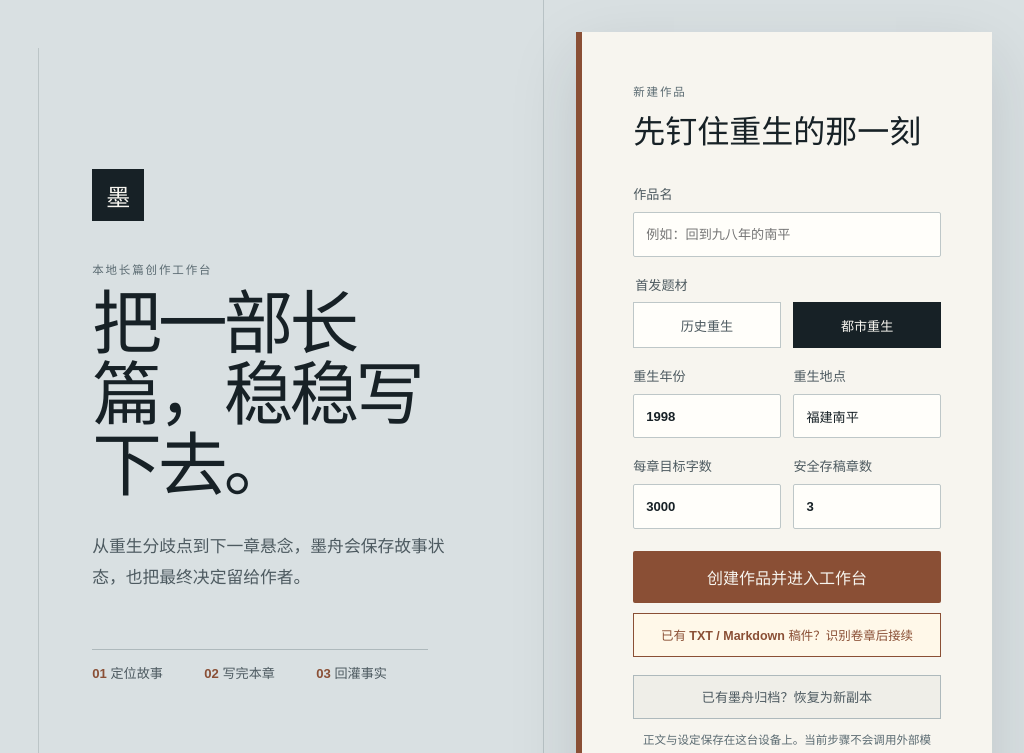
App › flushes the latest chapter text before opening the reference library
The image size is (1024, 753).
Step 1. Type "回到九八年的南平" into the field labelled "作品名" → coordinates (787, 235), box [633,212,941,257]
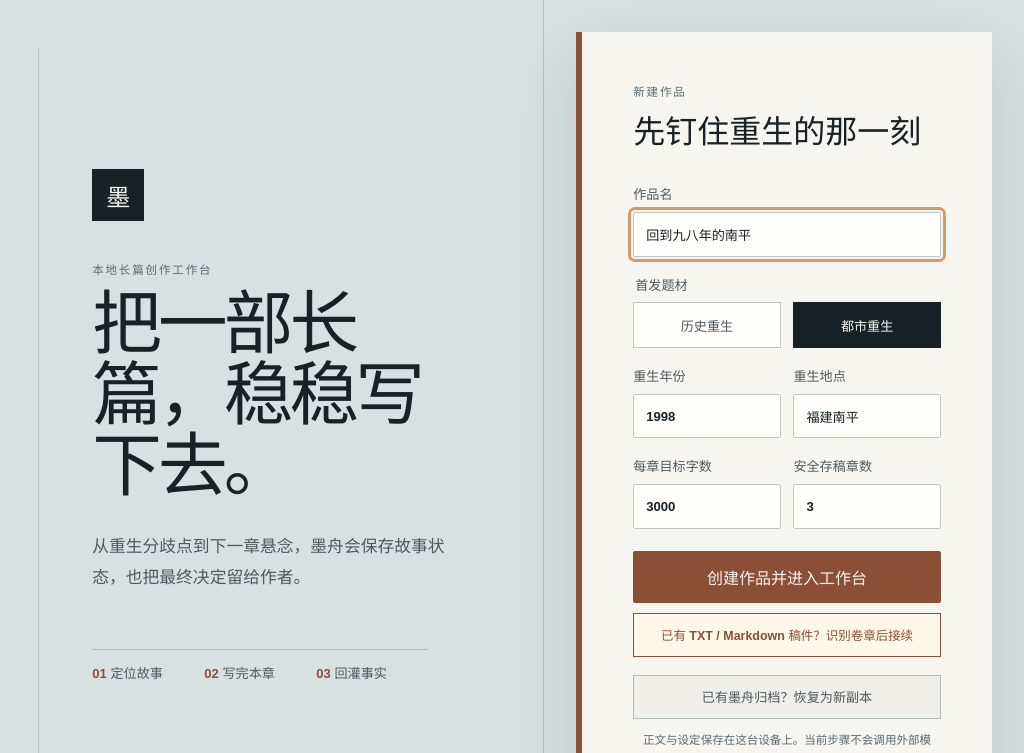
Step 2. Click the button "创建作品并进入工作台" → coordinates (787, 577), box [633,551,941,603]
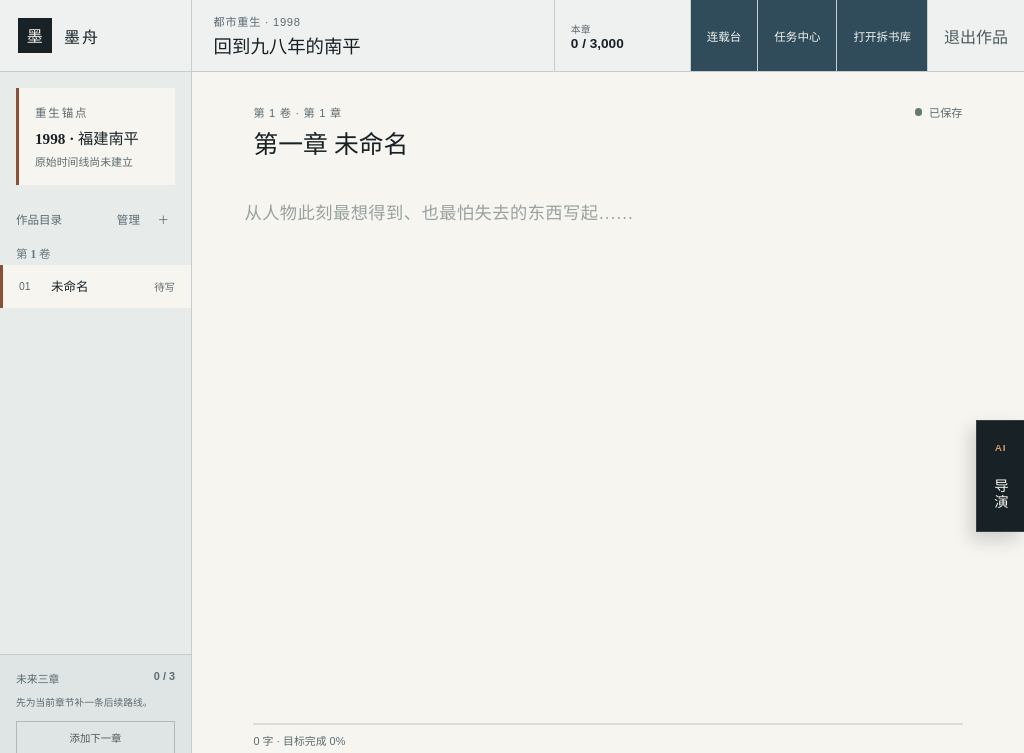
Step 3. Type "刚写下、还没有等到自动保存的一句。" into the text box named "章节正文" → coordinates (608, 451), box [224,180,992,723]
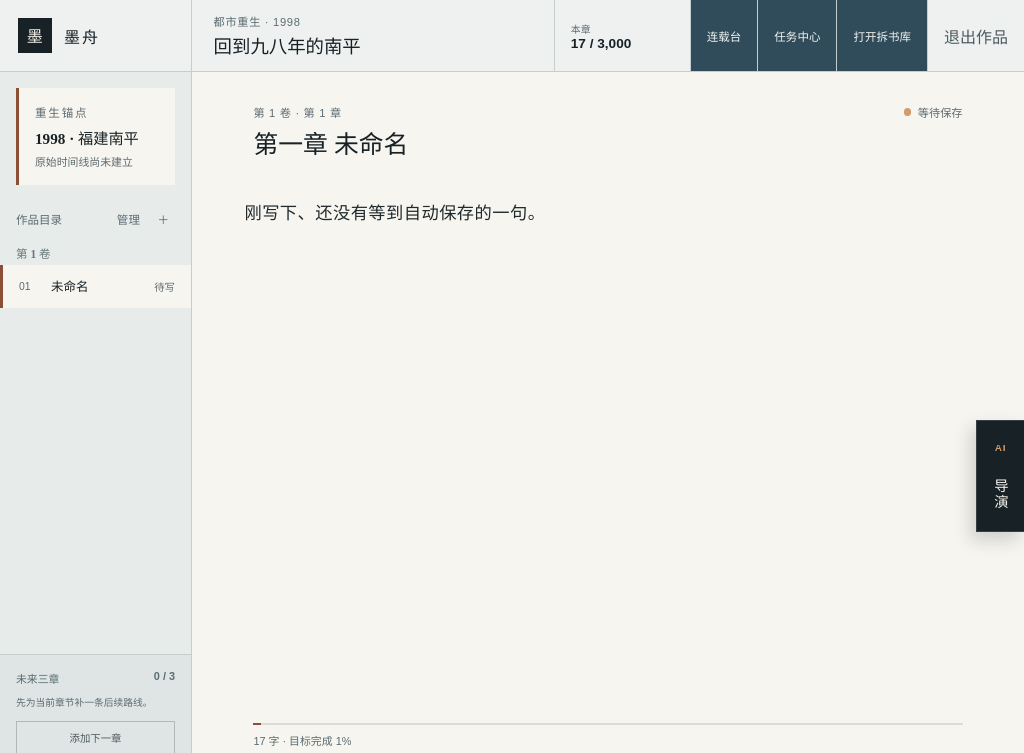
Step 4. Click the button "打开拆书库" → coordinates (882, 36), box [836,0,927,71]
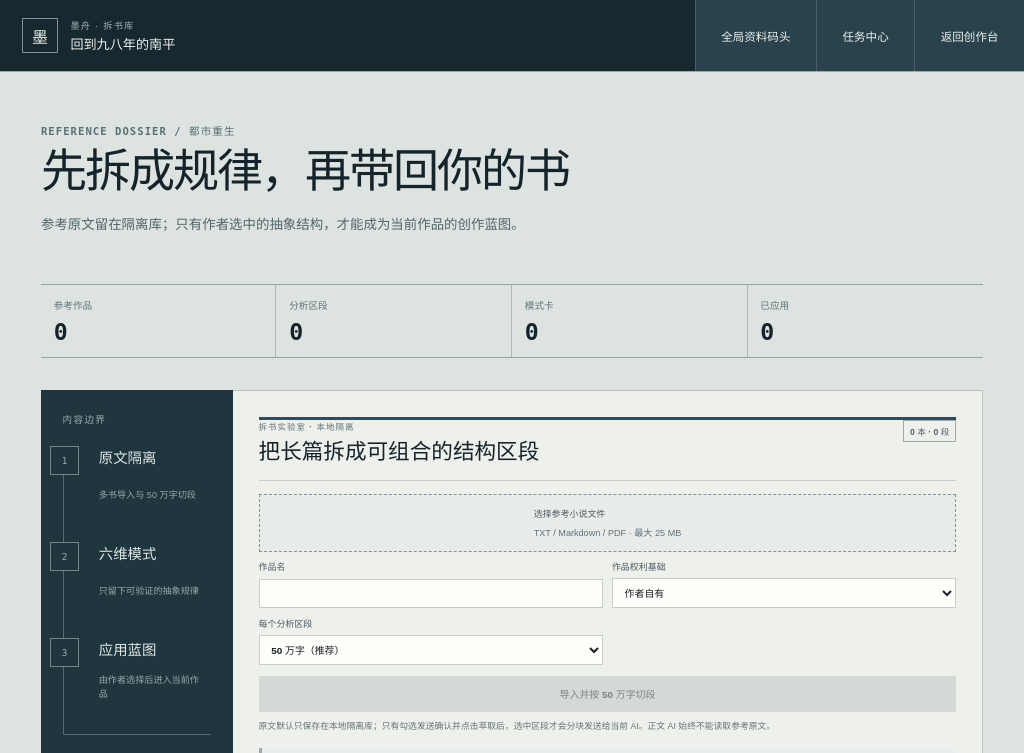
expect the heading "先拆成规律，再带回你的书" is shown: met, box [41,147,594,197]
